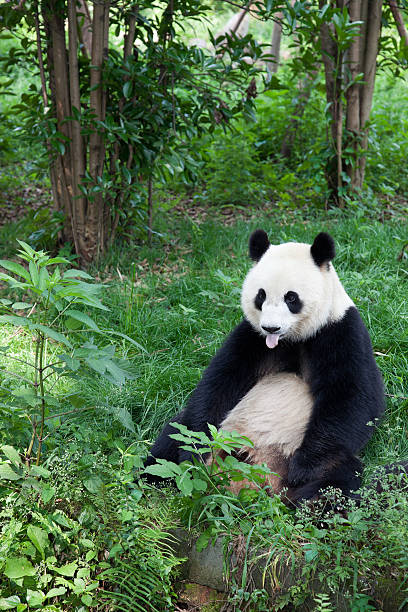panda: (231, 214, 345, 376)
